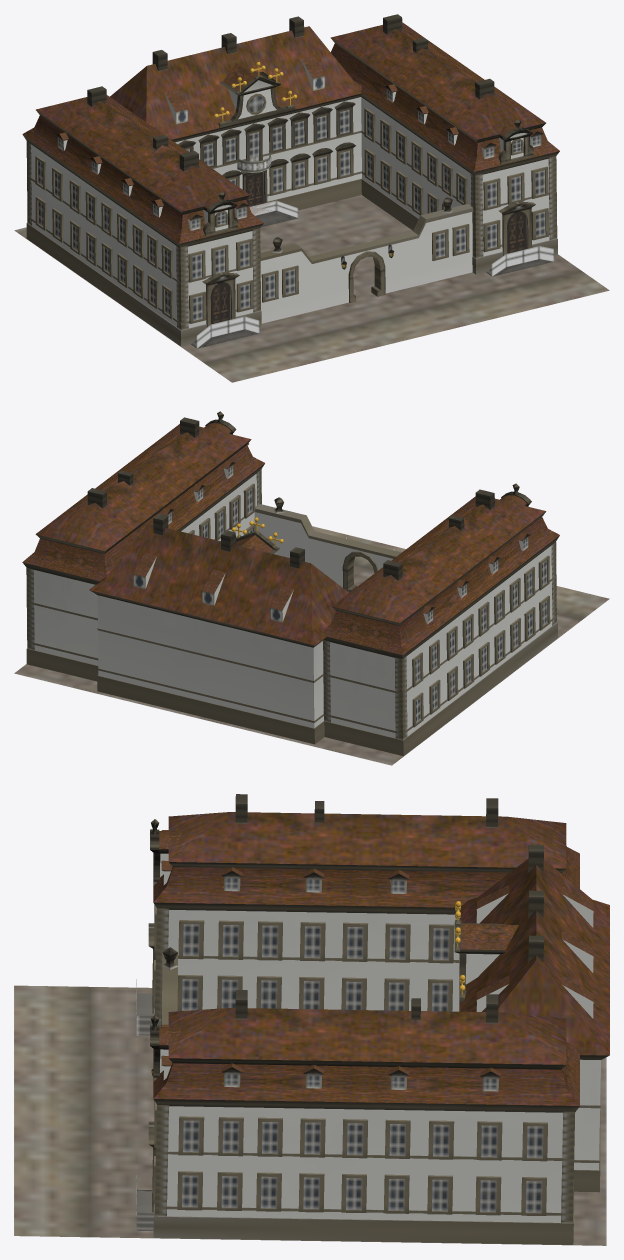
The model's file is harlingsches_haus.glb.
3 renders of one model, top to bottom at view 1: azimuth 30°, elevation 25°; view 2: azimuth 150°, elevation 25°; view 3: azimuth 270°, elevation 25°, orthographic. The views are drawn at different scales.
Visible parts, largest first — view 1: Object_2, Object_3; view 2: Object_2, Object_3; view 3: Object_2, Object_3.
Boxes of the visible parts, x1=… form: Object_2: x1=22, y1=17, x2=559, y2=348; Object_3: x1=14, y1=14, x2=609, y2=382; Object_2: x1=22, y1=411, x2=559, y2=756; Object_3: x1=14, y1=417, x2=609, y2=765; Object_2: x1=136, y1=796, x2=609, y2=1244; Object_3: x1=14, y1=794, x2=606, y2=1245.
Bounding box in the file's own units: 6.31 × 2.65 × 6.29.
Materials: 1 (1 with a texture image).
